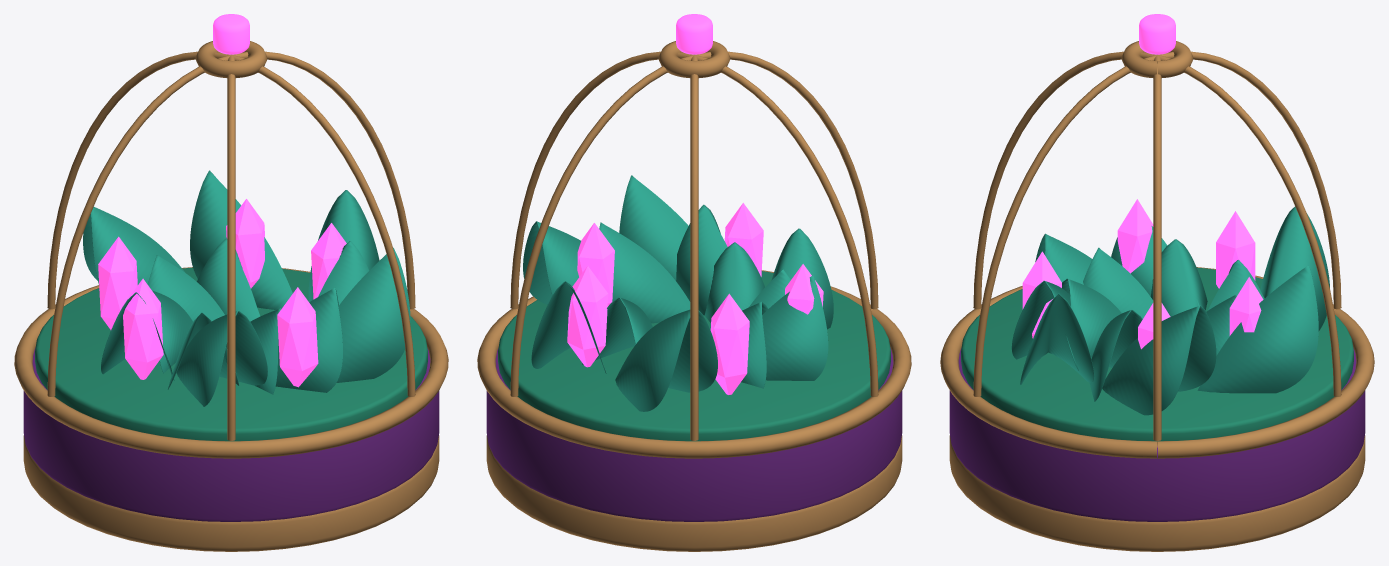
File: terrarium.glb
3 views of the same model, side by side, from view 1: azimuth 30°, elevation 25°; view 2: azimuth 150°, elevation 25°; view 3: azimuth 270°, elevation 25° (orthographic).
Parts seen in each view (by area): view 1: Plum bowl, Moss bed, Terrarium foot, Bowl rim, Terrarium frond.002, Terrarium frond.004, Terrarium frond.008, Dome brass rib.004, Dome brass rib.005, Dome brass rib.003, Terrarium frond.011, Glowing rose crystal.002 (+17 smaller); view 2: Plum bowl, Moss bed, Terrarium foot, Bowl rim, Terrarium frond.011, Terrarium frond.001, Terrarium frond.010, Terrarium frond.002, Dome brass rib.002, Dome brass rib.001, Dome brass rib.003, Glowing rose crystal.003 (+16 smaller); view 3: Plum bowl, Moss bed, Terrarium foot, Bowl rim, Terrarium frond.008, Terrarium frond.005, Dome brass rib, Dome brass rib.001, Dome brass rib.005, Terrarium frond.002, Terrarium frond.011, Dome brass rib.002 (+17 smaller).
Part boxes in pixels (left/top/right/bottom): Plum bowl: left=23, top=347, right=439, bottom=521; Moss bed: left=35, top=267, right=427, bottom=441; Terrarium foot: left=23, top=435, right=439, bottom=551; Bowl rim: left=14, top=267, right=448, bottom=458; Terrarium frond.002: left=336, top=247, right=410, bottom=382; Terrarium frond.004: left=176, top=310, right=267, bottom=406; Terrarium frond.008: left=190, top=170, right=292, bottom=309; Dome brass rib.004: left=227, top=55, right=235, bottom=440; Dome brass rib.005: left=232, top=55, right=415, bottom=396; Dome brass rib.003: left=47, top=55, right=230, bottom=396; Terrarium frond.011: left=83, top=207, right=184, bottom=284; Glowing rose crystal.002: left=277, top=287, right=318, bottom=387; Plum bowl: left=486, top=347, right=902, bottom=521; Moss bed: left=498, top=271, right=890, bottom=441; Terrarium foot: left=486, top=435, right=902, bottom=551; Bowl rim: left=477, top=270, right=911, bottom=458; Terrarium frond.011: left=615, top=309, right=717, bottom=411; Terrarium frond.001: left=762, top=275, right=828, bottom=380; Terrarium frond.010: left=599, top=222, right=690, bottom=323; Terrarium frond.002: left=619, top=175, right=688, bottom=280; Dome brass rib.002: left=690, top=55, right=698, bottom=440; Dome brass rib.001: left=510, top=55, right=693, bottom=396; Dome brass rib.003: left=695, top=55, right=878, bottom=396; Glowing rose crystal.003: left=567, top=266, right=608, bottom=367; Plum bowl: left=949, top=348, right=1365, bottom=521; Moss bed: left=961, top=267, right=1353, bottom=441; Terrarium foot: left=949, top=435, right=1365, bottom=551; Bowl rim: left=940, top=267, right=1374, bottom=458; Terrarium frond.008: left=1197, top=265, right=1318, bottom=393; Terrarium frond.005: left=1102, top=305, right=1216, bottom=415; Dome brass rib: left=1153, top=55, right=1161, bottom=440; Dome brass rib.001: left=1158, top=55, right=1341, bottom=396; Dome brass rib.005: left=973, top=55, right=1156, bottom=396; Terrarium frond.002: left=1020, top=294, right=1094, bottom=385; Terrarium frond.011: left=1260, top=206, right=1329, bottom=331; Dome brass rib.002: left=1158, top=51, right=1341, bottom=309.
Bounding box in the file's own units: 0.3963 × 0.45 × 0.3963.
